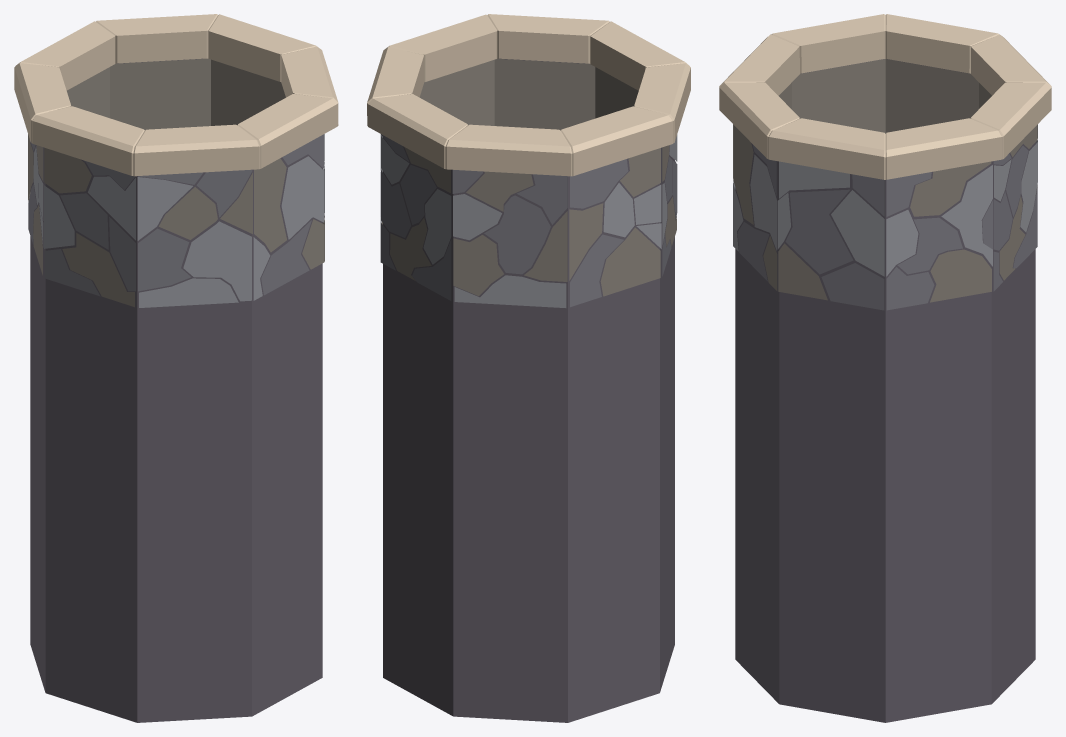
The model's file is fantasy_well.fbx.
The picture shows the model from 3 angles, left to right: view 1: azimuth 30°, elevation 25°; view 2: azimuth 150°, elevation 25°; view 3: azimuth 270°, elevation 25°; orthographic projection.
Parts seen in each view (by area): view 1: Cylinder.021; view 2: Cylinder.021; view 3: Cylinder.021.
Boxes of the visible parts, x1=… form: Cylinder.021: x1=14, y1=14, x2=338, y2=722; Cylinder.021: x1=367, y1=14, x2=690, y2=722; Cylinder.021: x1=719, y1=14, x2=1051, y2=722.
Bounding box in the file's own units: 219 × 420 × 219.
